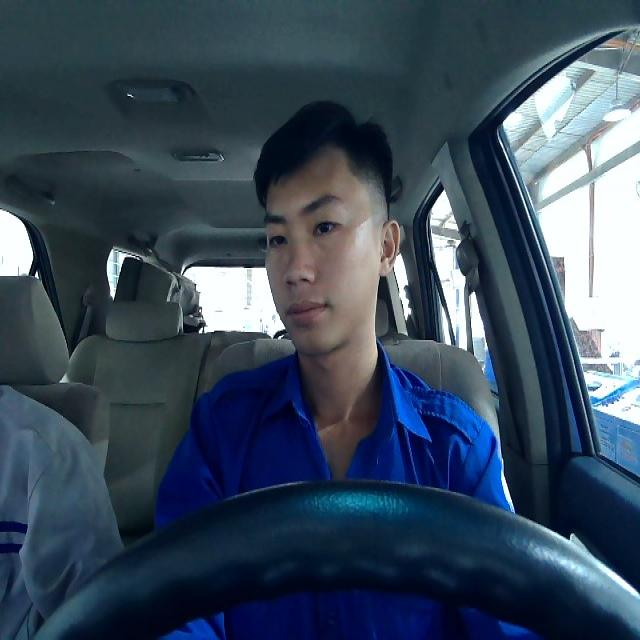seeing_left: (263, 144, 400, 356)
